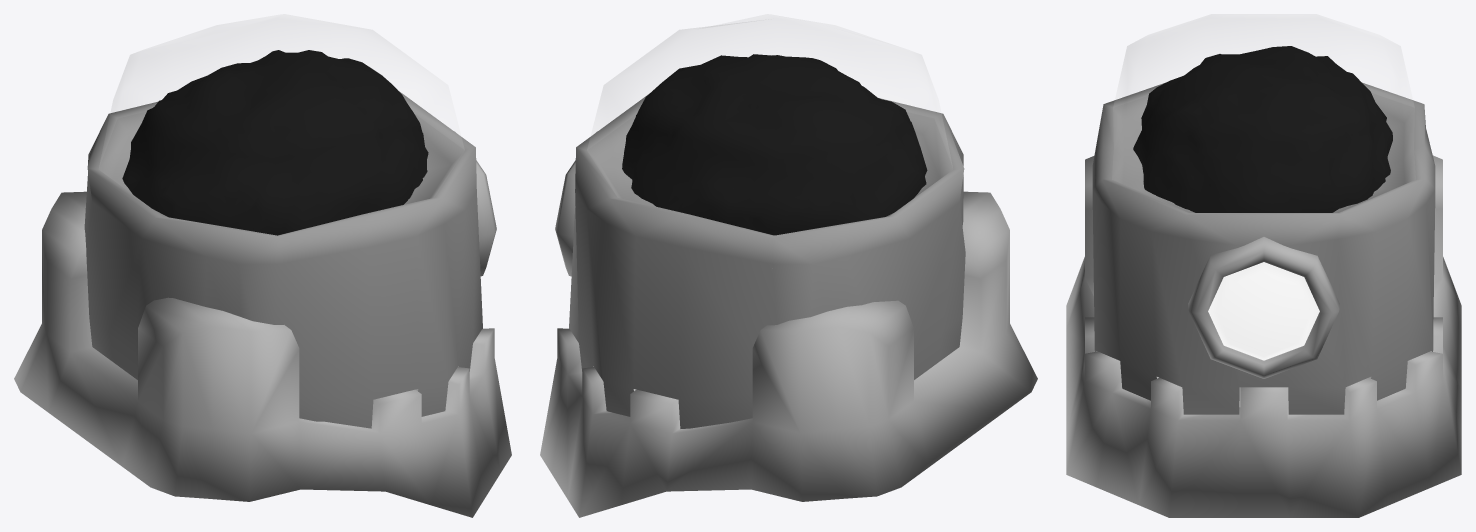
Rendered from HeadSteampunk.glb.
3 views of the same model, side by side, from view 1: azimuth 30°, elevation 25°; view 2: azimuth 150°, elevation 25°; view 3: azimuth 270°, elevation 25° (orthographic). The views are drawn at different scales.
Visible parts, largest first — view 1: Head_01; view 2: Head_01; view 3: Head_01.
Boxes of the visible parts, x1,y1,x2,y2 form: Head_01: (14,14,511,517); Head_01: (540,14,1037,517); Head_01: (1066,14,1461,517).
Bounding box in the file's own units: 22.68 × 23.16 × 21.52.
3 materials, 1 textured.
